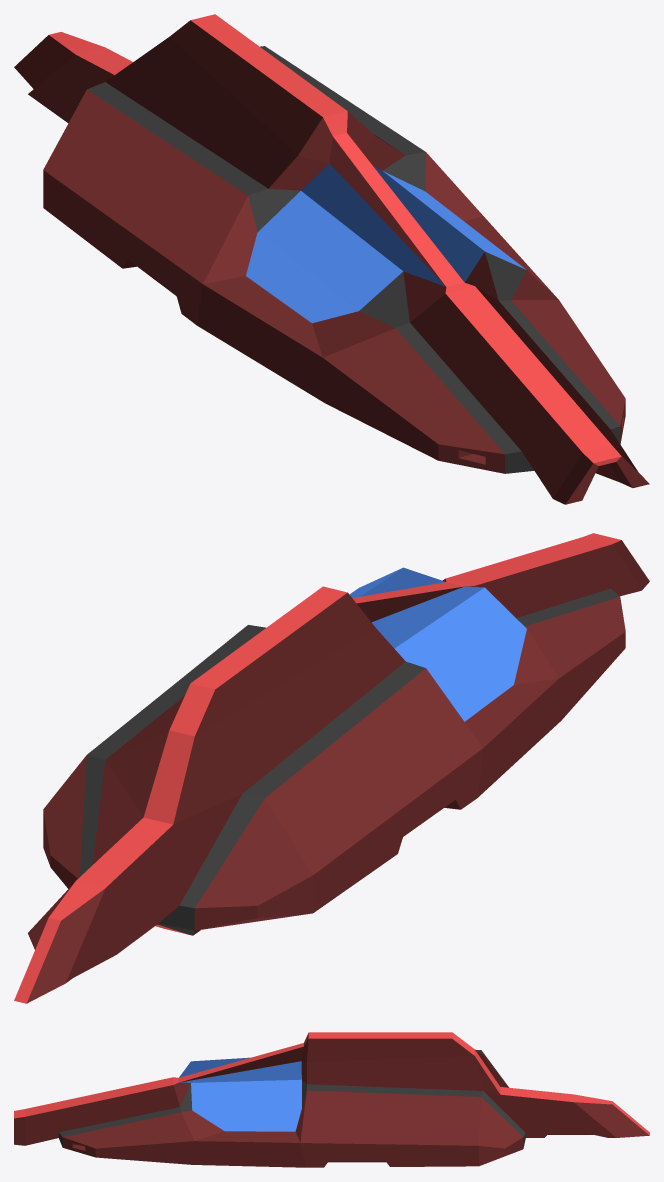
File: Ship_1x3_B1.fbx
The picture shows the model from 3 angles, top to bottom: view 1: azimuth 30°, elevation 25°; view 2: azimuth 150°, elevation 25°; view 3: azimuth 270°, elevation 25°; orthographic projection. The views are drawn at different scales.
Visible parts, largest first — view 1: Ship_1x3_B1; view 2: Ship_1x3_B1; view 3: Ship_1x3_B1.
Part boxes in pixels (<box>): Ship_1x3_B1: <box>14,14,649,504</box>; Ship_1x3_B1: <box>14,533,649,1003</box>; Ship_1x3_B1: <box>14,1032,649,1167</box>.
Bounding box in the file's own units: 79.59 × 61.74 × 289.
